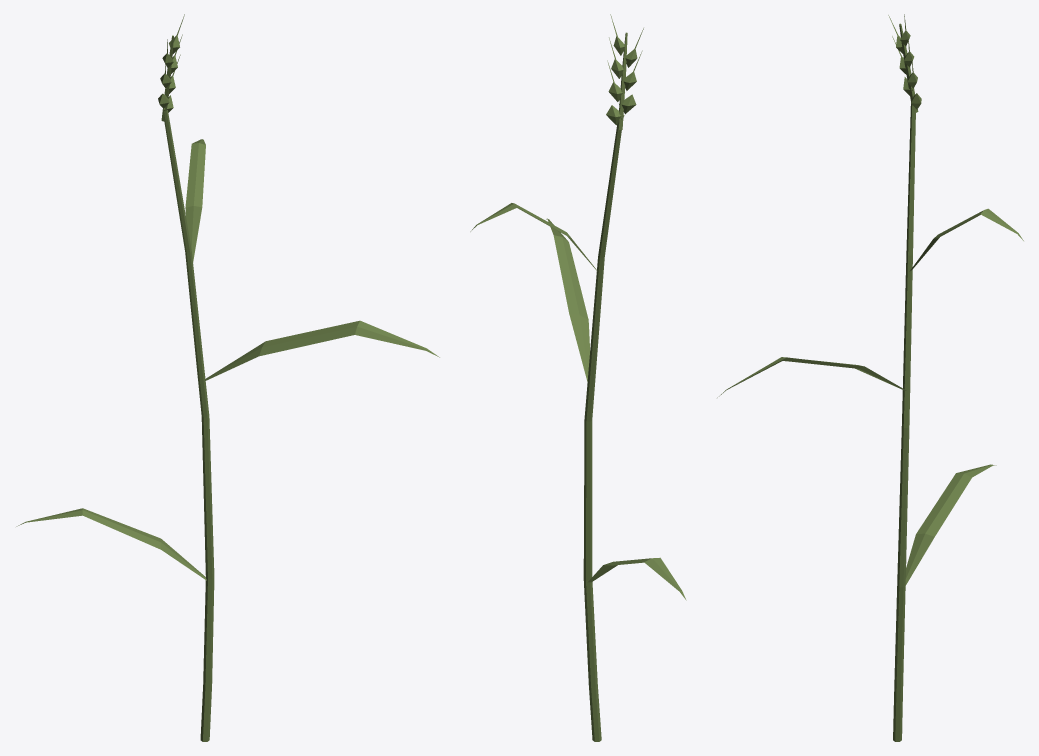
Rendered from wheat_B.glb.
3 renders of one model, left to right at view 1: azimuth 30°, elevation 25°; view 2: azimuth 150°, elevation 25°; view 3: azimuth 270°, elevation 25°, orthographic. The views are drawn at different scales.
Parts seen in each view (by area): view 1: mesh_wheat_B; view 2: mesh_wheat_B; view 3: mesh_wheat_B.
Part boxes in pixels (left/top/right/bottom): mesh_wheat_B: left=16, top=14, right=439, bottom=741; mesh_wheat_B: left=470, top=14, right=686, bottom=741; mesh_wheat_B: left=717, top=14, right=1023, bottom=741.
Bounding box in the file's own units: 0.4008 × 0.9838 × 0.3843.
